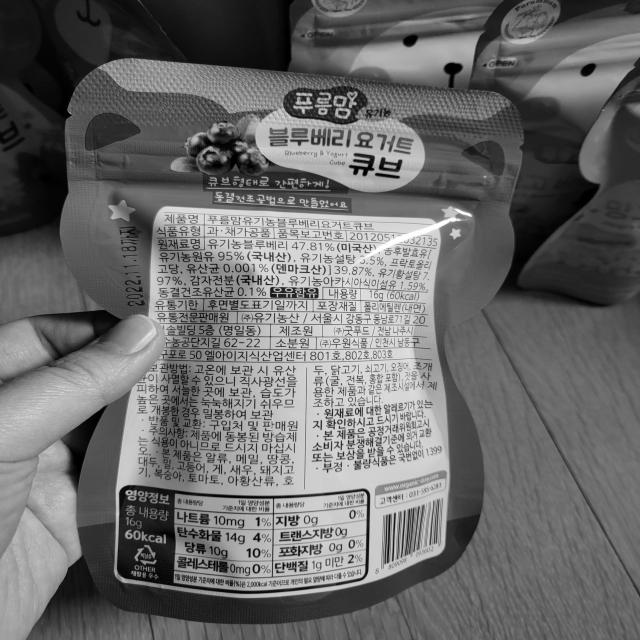Nutrition Label: (105, 478, 384, 605)
